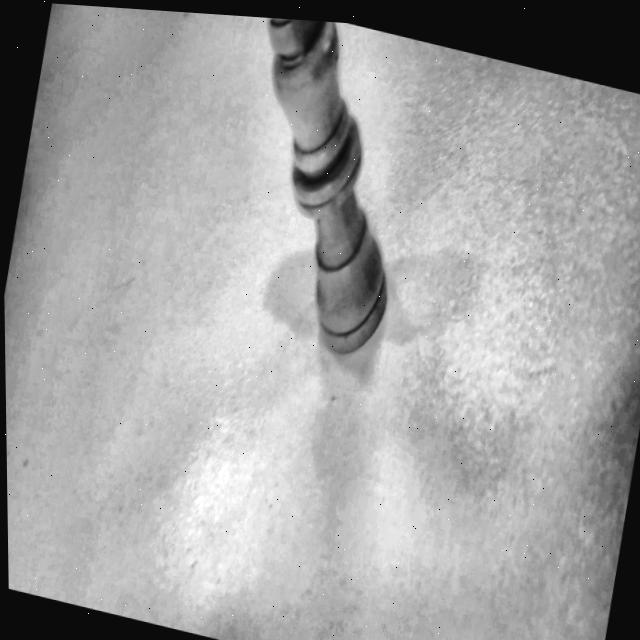white-king: (173, 12, 470, 407)
